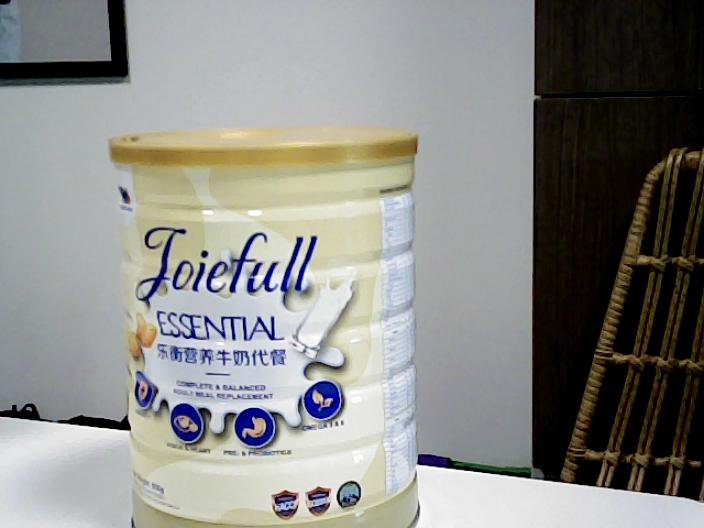Adult_Milk_800-899g_Halal_NonHealthy: (105, 129, 421, 528)
